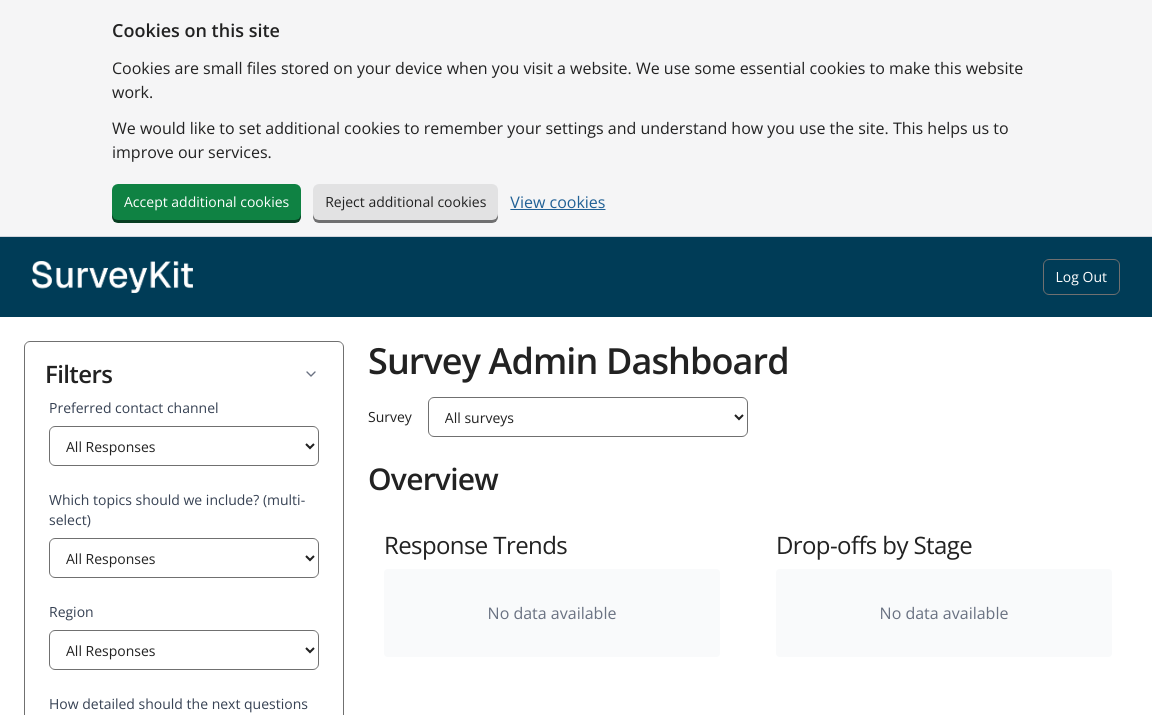
Test: App Router Integration › logs out from the admin dashboard and returns to admin login
The image size is (1152, 715).
Click the button "Log Out".
click(1081, 277)  # box x1=1043 y1=259 x2=1120 y2=295
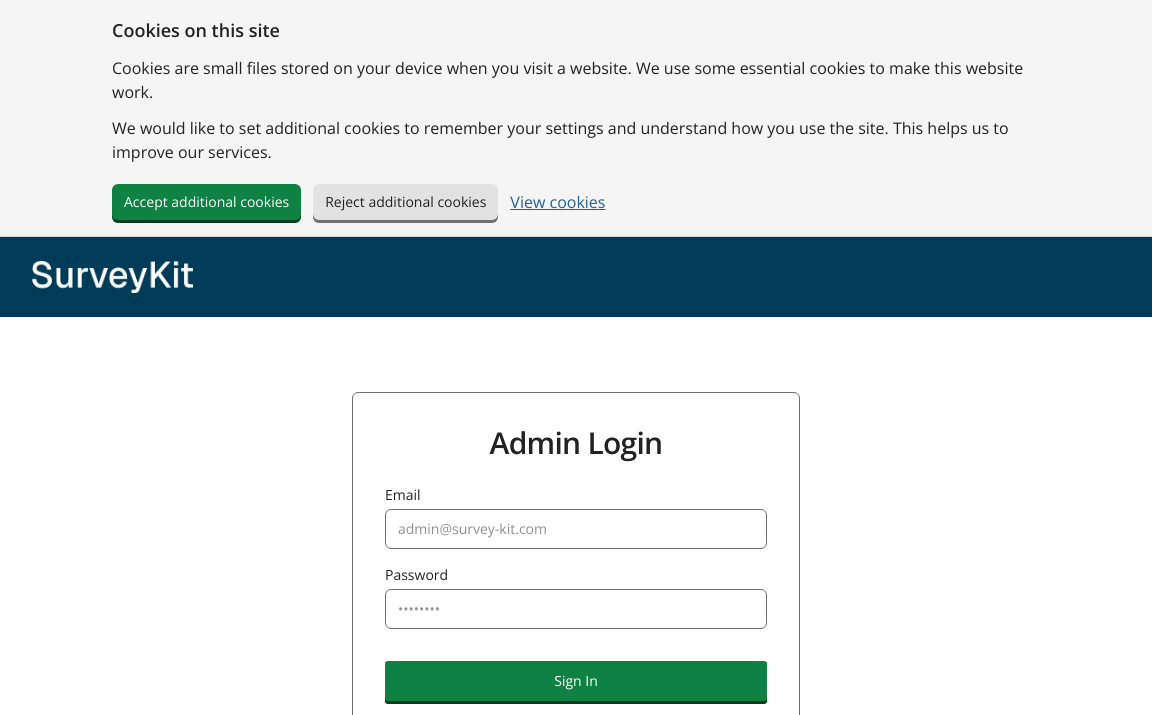
Expected: the heading "Admin Login" is shown, x1=490 y1=422 x2=662 y2=462
